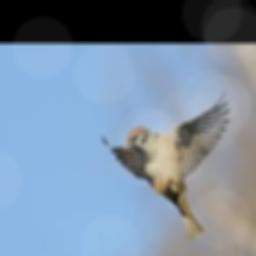Sparrow: (101, 90, 228, 239)
